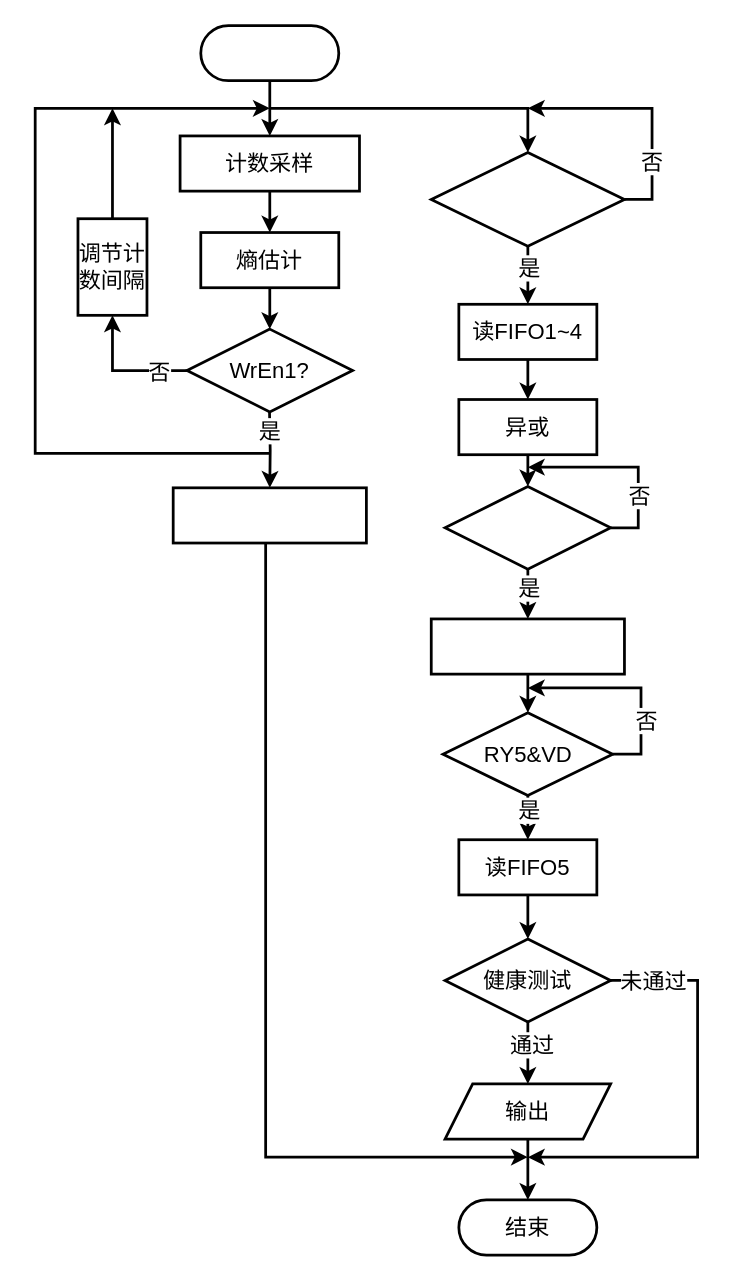
The diagram is 733 pixels wide and 1279 high, and some of its shapes have lost their labels. Here are the shapes that lost their labels. From the top down, the box of each, then its label:
(199, 23, 339, 81): 开始
(429, 150, 625, 247): RY1&RY2 &RY3&RY4
(171, 486, 367, 544): 写入FIFO1~4
(443, 484, 611, 570): WrEn2?
(429, 617, 625, 675): 写入FIFO5
